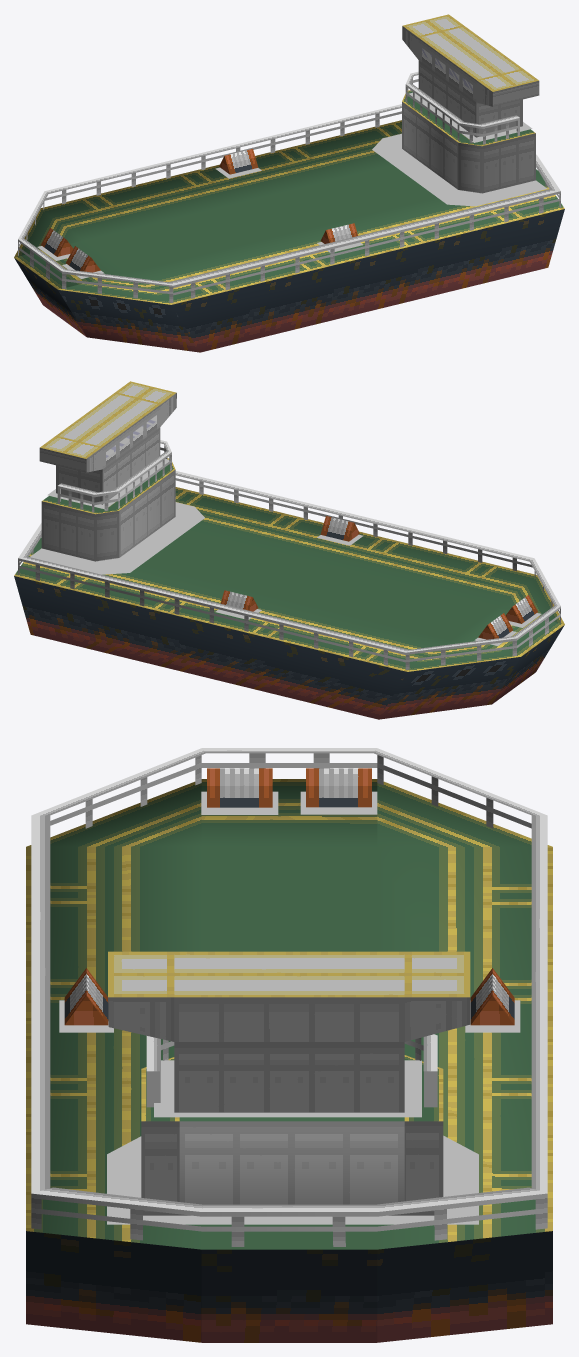
The picture shows the model from 3 angles, top to bottom: view 1: azimuth 30°, elevation 25°; view 2: azimuth 150°, elevation 25°; view 3: azimuth 270°, elevation 25°; orthographic projection. The views are drawn at different scales.
Parts seen in each view (by area): view 1: polygon2, polygon1, polygon3, polygon4, polygon0; view 2: polygon2, polygon1, polygon3, polygon4, polygon0; view 3: polygon2, polygon3, polygon1, polygon4, polygon0.
Boxes of the visible parts, x1,y1,x2,y2 form: polygon2: (14, 71, 564, 304); polygon1: (14, 209, 564, 352); polygon3: (18, 26, 560, 302); polygon4: (402, 14, 538, 91); polygon0: (37, 92, 547, 278); polygon2: (14, 440, 564, 671); polygon1: (14, 576, 564, 719); polygon3: (18, 393, 560, 669); polygon4: (40, 381, 176, 458); polygon0: (30, 459, 541, 645); polygon2: (26, 748, 552, 1249); polygon3: (31, 753, 547, 1246); polygon1: (26, 1231, 552, 1342); polygon4: (108, 951, 470, 997); polygon0: (59, 791, 520, 1224).
Bounding box in the file's own units: 12.68 × 4.25 × 6.
